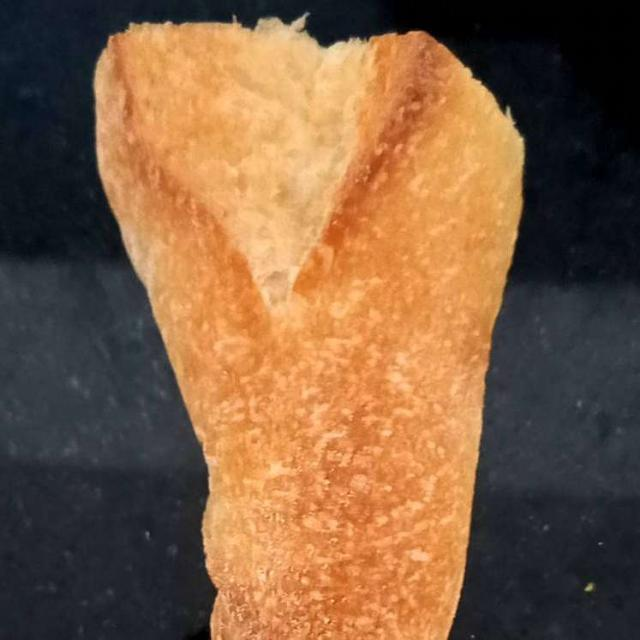bread-french-white-flour: (103, 24, 519, 631)
